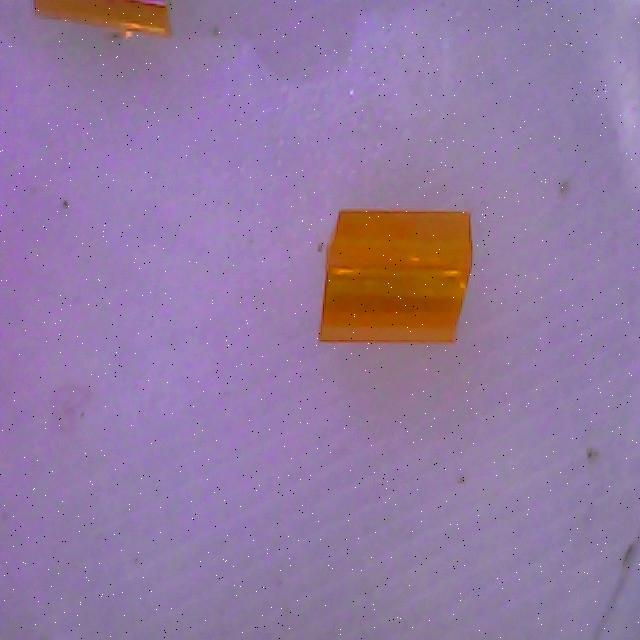fragments: (320, 211, 472, 342)
